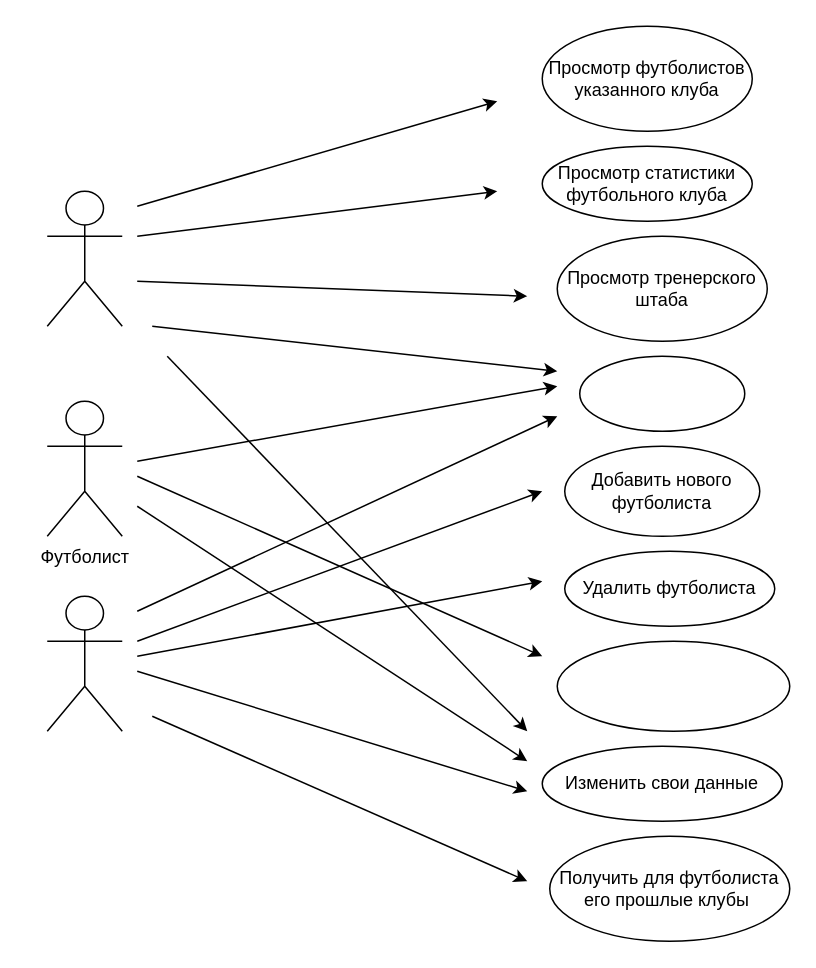
The diagram is 816 pixels wide and 968 high, and some of its shapes have lost their labels. Here are the shapes that lost their labels. From the top down, the centre of each, then its label:
point (84, 258): Пользователь
point (661, 393): Авторизация
point (84, 663): Тренер
point (673, 685): Просмотр своих/чужих данных/статистики
